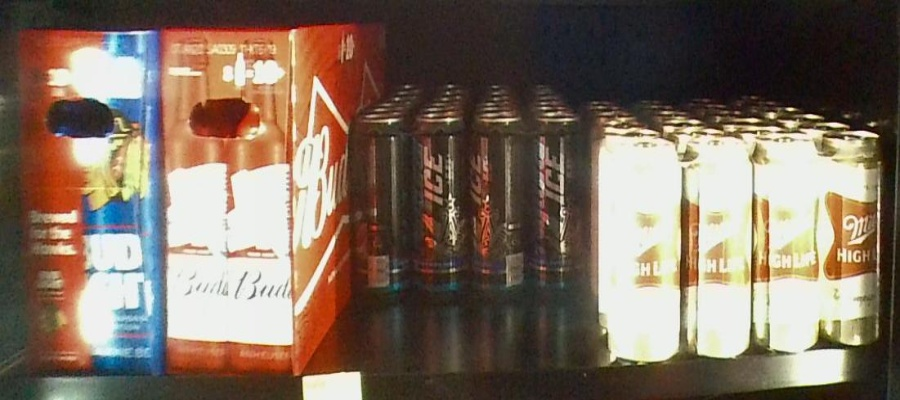bottle: (161, 22, 353, 371), (20, 28, 163, 374), (608, 133, 753, 363), (750, 130, 884, 352), (465, 113, 586, 299), (351, 112, 465, 300)
